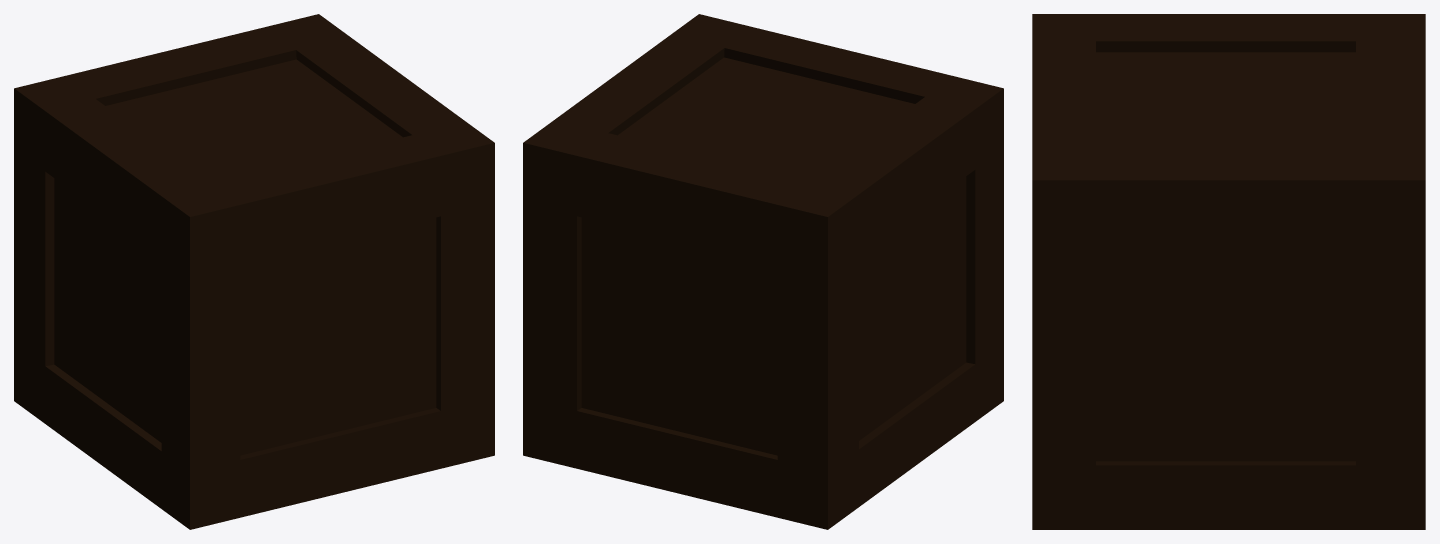
Rendered from Crate.FBX.
3 renders of one model, left to right at view 1: azimuth 30°, elevation 25°; view 2: azimuth 150°, elevation 25°; view 3: azimuth 270°, elevation 25°, orthographic. The views are drawn at different scales.
Parts seen in each view (by area): view 1: Box001; view 2: Box001; view 3: Box001.
Boxes of the visible parts, bbox=[...] form: Box001: bbox=[14, 14, 494, 529]; Box001: bbox=[523, 14, 1003, 529]; Box001: bbox=[1032, 14, 1425, 529].
Bounding box in the file's own units: 26.89 × 26.38 × 26.89.
